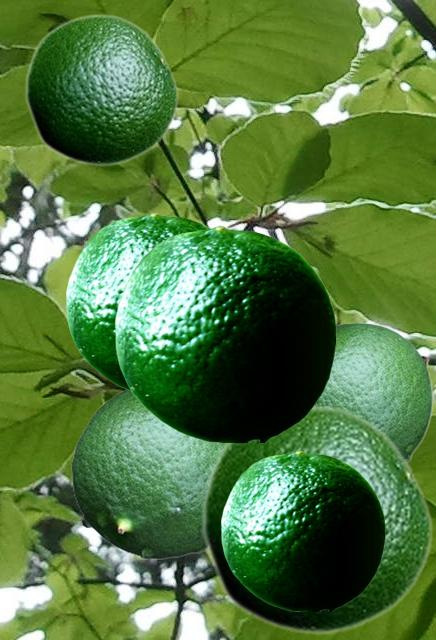calamansi: (200, 404, 433, 635), (115, 225, 335, 441), (221, 450, 384, 610), (71, 389, 224, 558), (66, 212, 209, 392), (24, 13, 178, 166), (317, 322, 432, 462)
